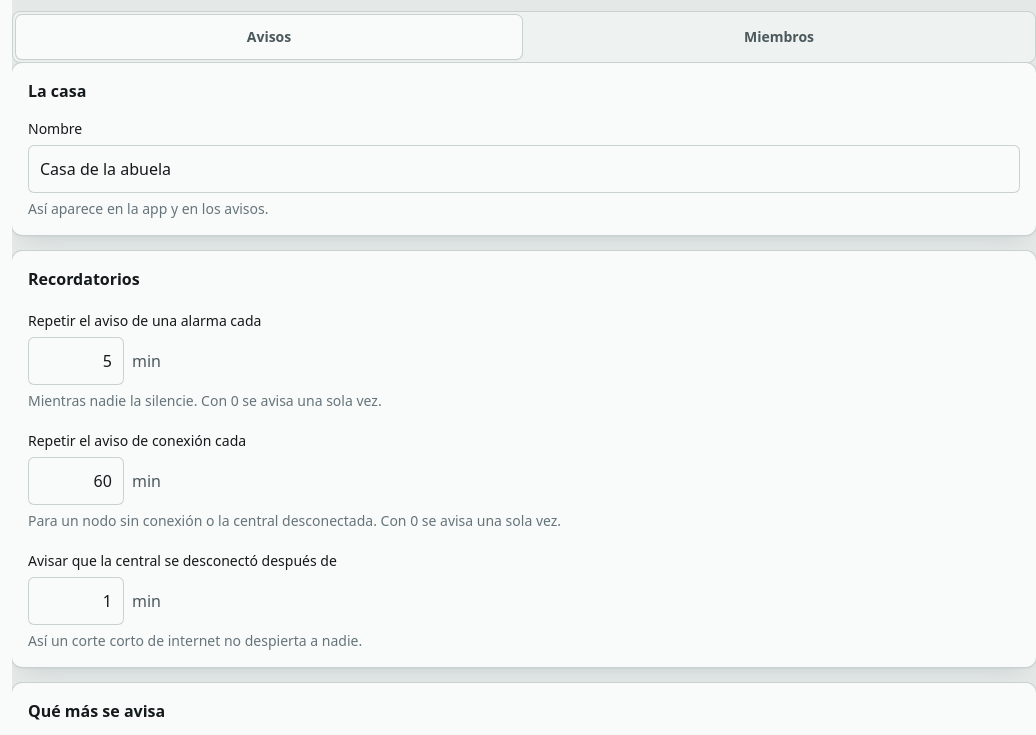
Test: Ajustes › guarda solo lo que cambió
Replace the text in the field labelled "Repetir el aviso de una alarma cada" with "10": (76, 361) 28,337 -> 124,385
(page scrolled)
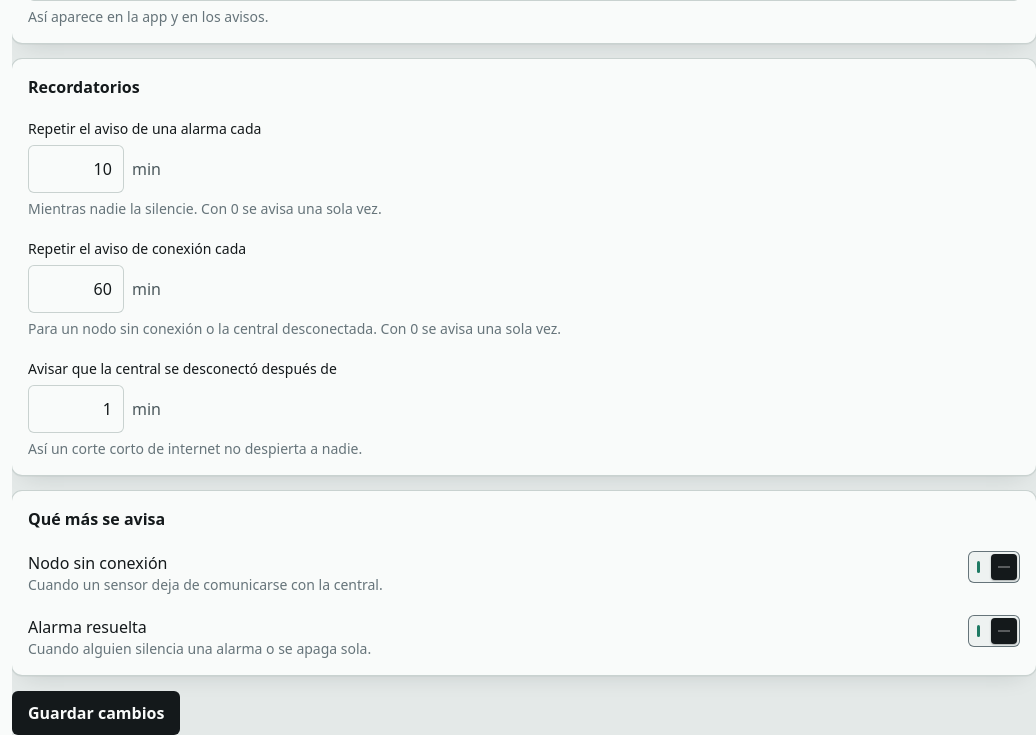
Click the switch named "Alarma resuelta": (994, 631) 968,615 -> 1020,647
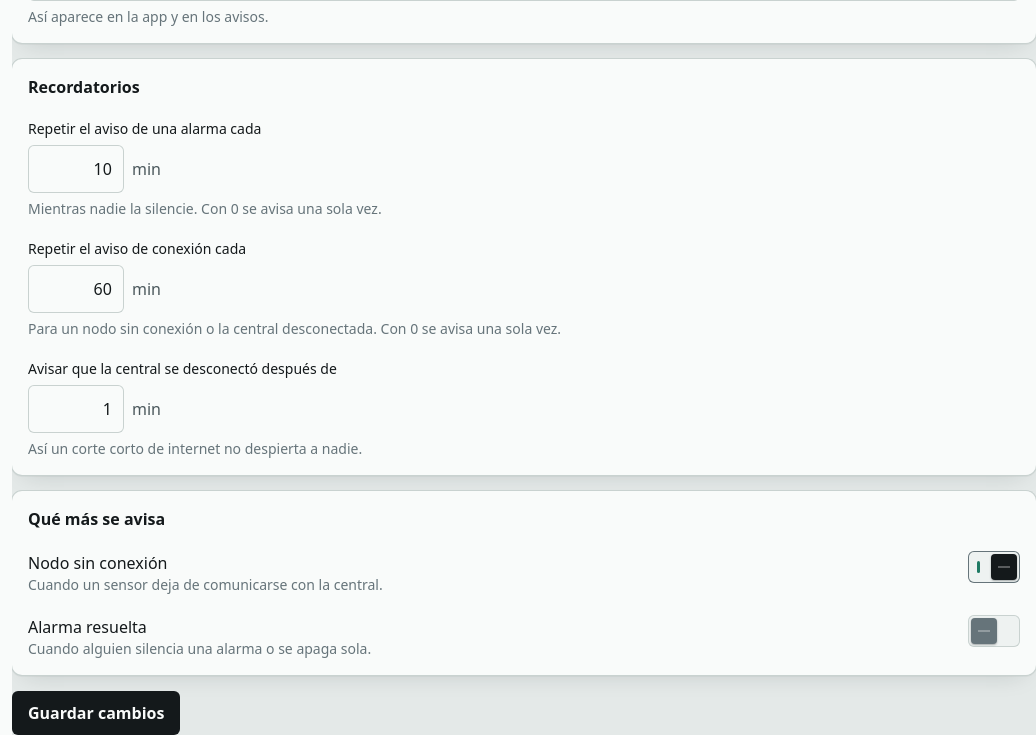
Click the button "Guardar cambios": (96, 713) 12,691 -> 180,734
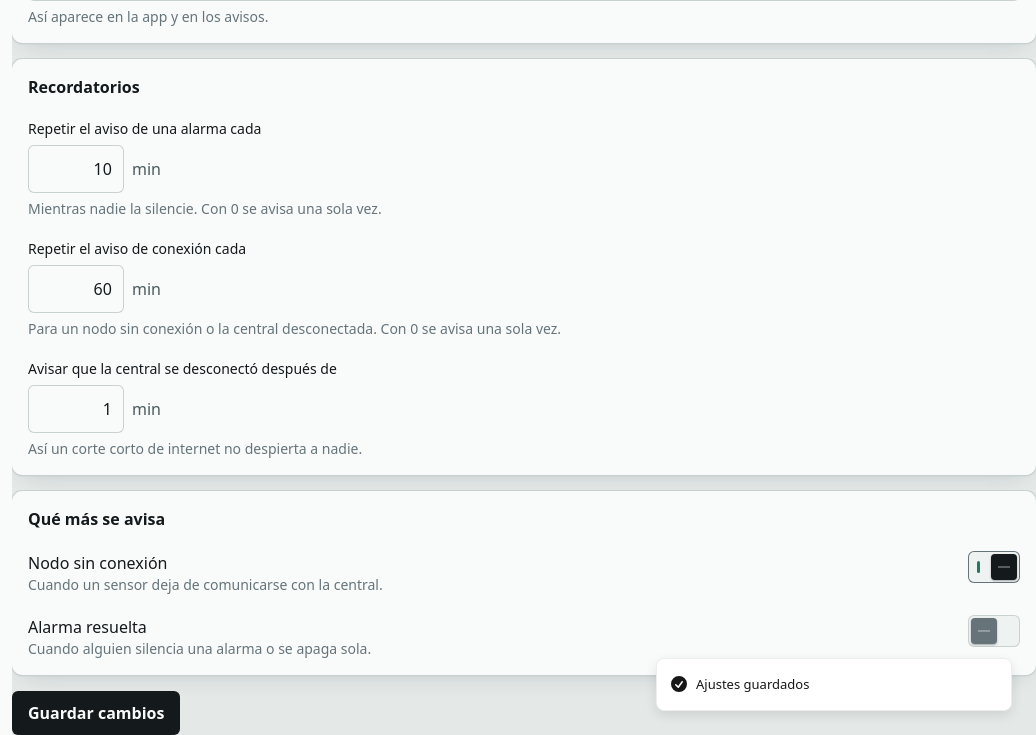
Check: the text "Ajustes guardados" is shown, box 696,674 -> 809,694
